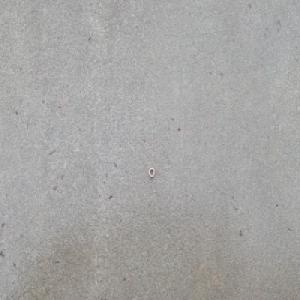Nut: (148, 166, 155, 178)
